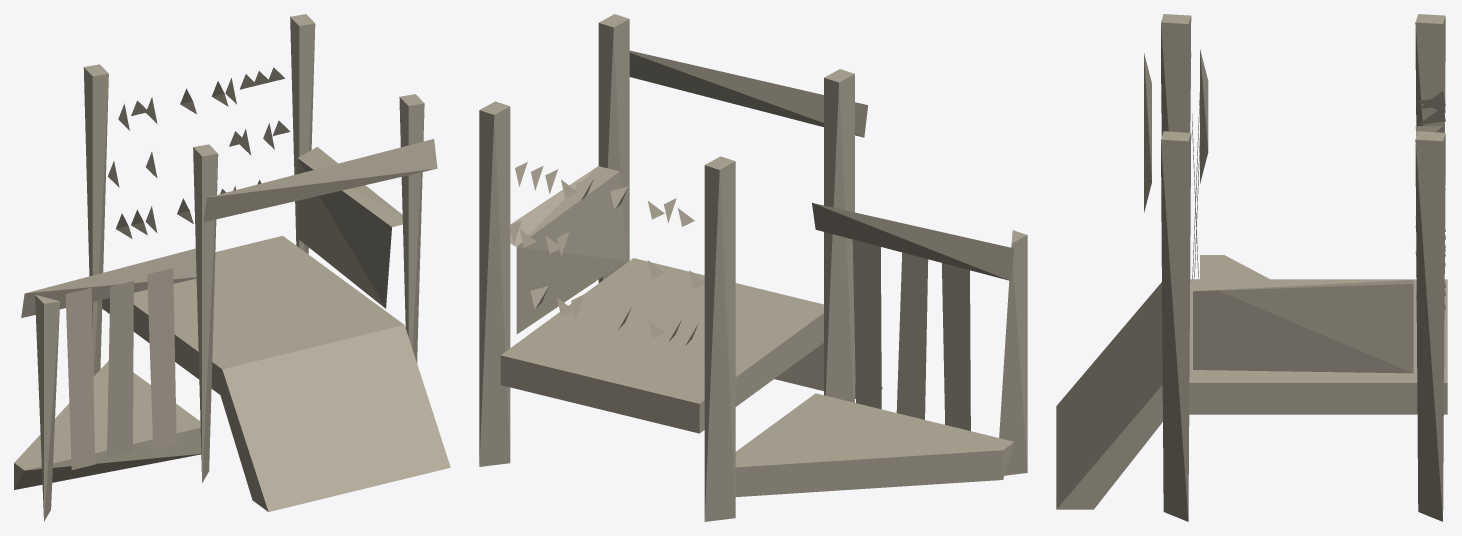
Rendered from playground.lod2.glb.
3 renders of one model, left to right at view 1: azimuth 30°, elevation 25°; view 2: azimuth 150°, elevation 25°; view 3: azimuth 270°, elevation 25°, orthographic. The views are drawn at different scales.
Parts seen in each view (by area): view 1: plac_zabaw_Material #37_0; view 2: plac_zabaw_Material #37_0; view 3: plac_zabaw_Material #37_0.
Part boxes in pixels (x1,y1,x2,y2): plac_zabaw_Material #37_0: (14, 14, 450, 521); plac_zabaw_Material #37_0: (479, 14, 1027, 521); plac_zabaw_Material #37_0: (1056, 14, 1447, 521).
Size of the model in its own units: 8.98 by 7.22 by 6.72.
